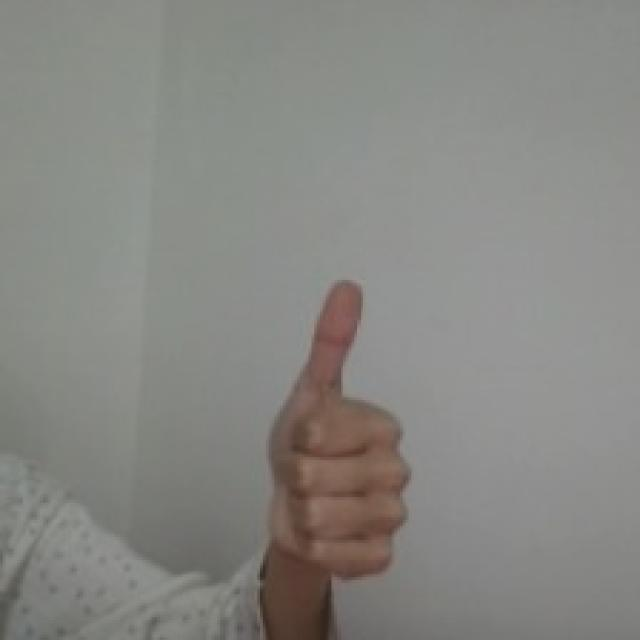fine: (254, 272, 415, 584)
